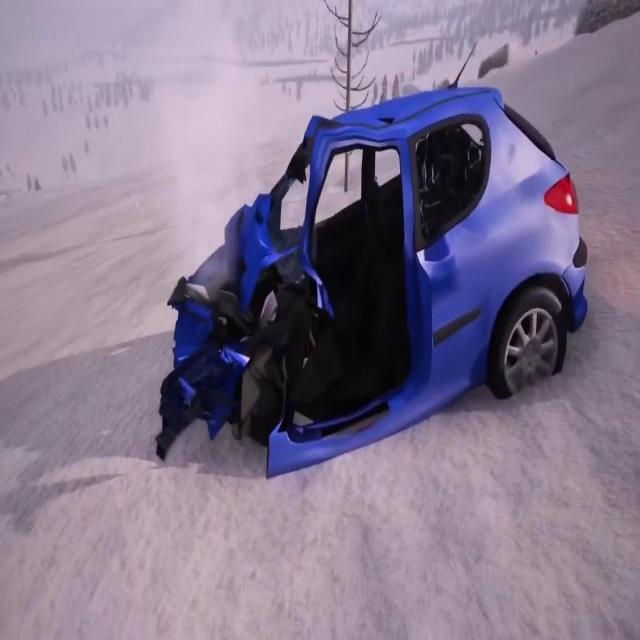severe: (150, 77, 594, 487)
